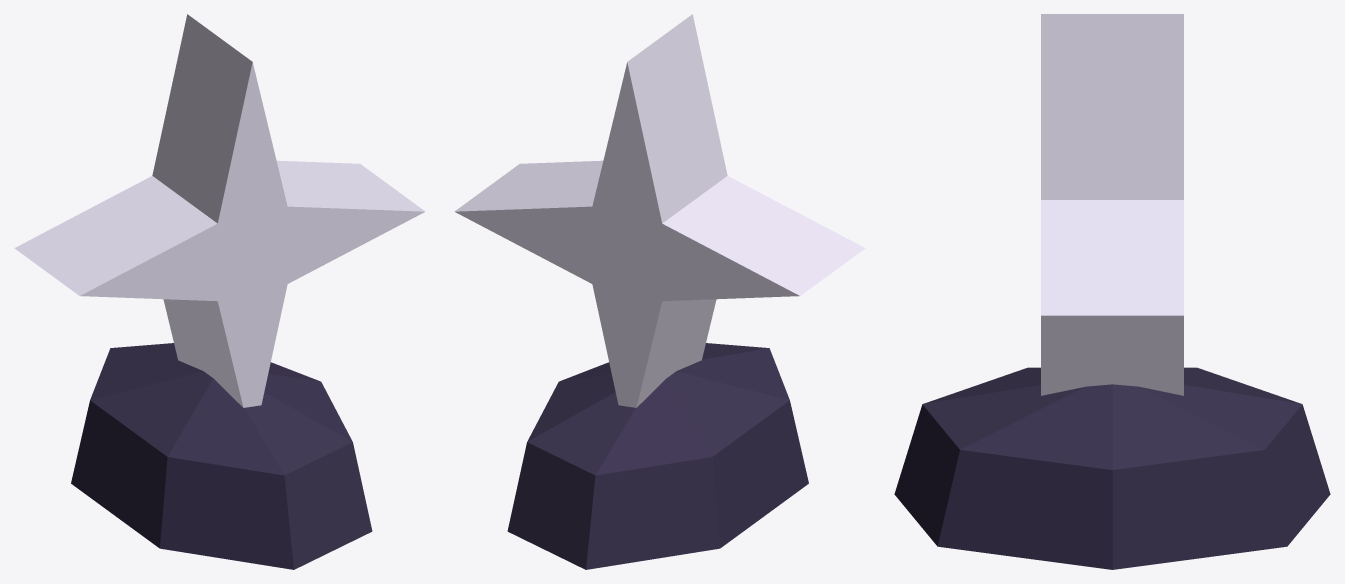
File: env_r16_star_fragment.glb
3 views of the same model, side by side, from view 1: azimuth 30°, elevation 25°; view 2: azimuth 150°, elevation 25°; view 3: azimuth 270°, elevation 25° (orthographic). The views are drawn at different scales.
Visible parts, largest first — view 1: env_r16_star_fragment; view 2: env_r16_star_fragment; view 3: env_r16_star_fragment.
Boxes of the visible parts, x1=… form: env_r16_star_fragment: x1=14, y1=14, x2=425, y2=569; env_r16_star_fragment: x1=454, y1=14, x2=865, y2=569; env_r16_star_fragment: x1=894, y1=14, x2=1330, y2=569.
Size of the model in its own units: 1.2 by 1.5 by 1.2.
Materials: 1 (1 with a texture image).
